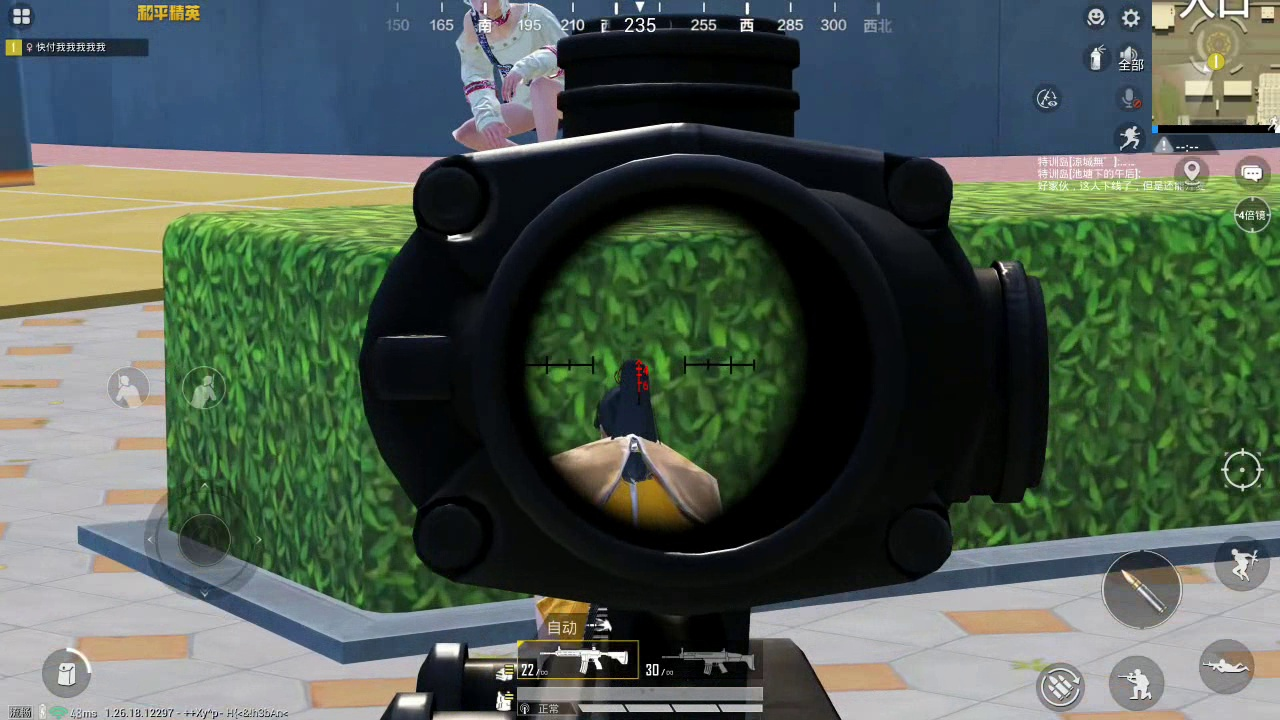enemy: (528, 361, 721, 523), (443, 1, 568, 149)
